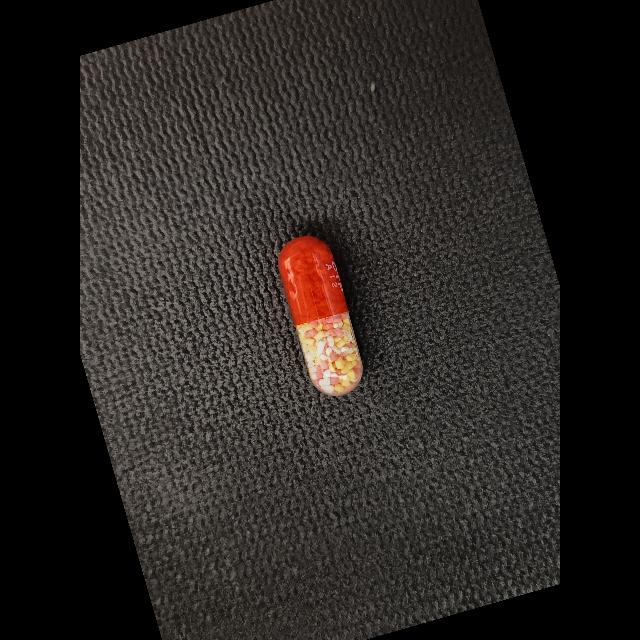Intact Capsule: (278, 236, 363, 396)
